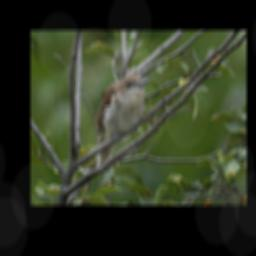Cuckoo: (94, 73, 149, 167)
